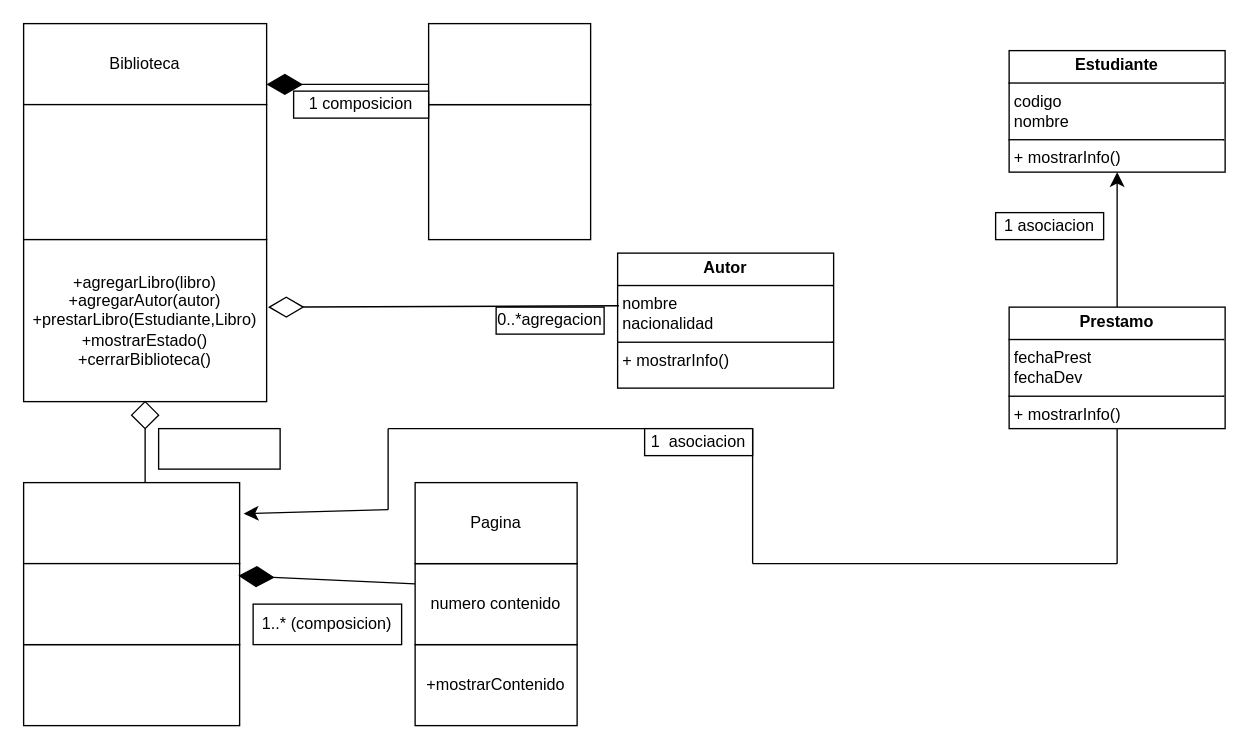
This 1249x749 diagram has some shape labels left out. Here are the shapes that lost their labels. From the top down, the centre of each, then its label:
At point 509,63: "Horario".
At point 144,171: "nombre listaLibros listaAutores prestamos".
At point 509,171: "dias horaApertura horaCierre".
At point 218,448: "0..*(agregacion)".
At point 131,522: "Libro".
At point 131,603: "titulo isbn prestado".
At point 131,684: "+leer()".
